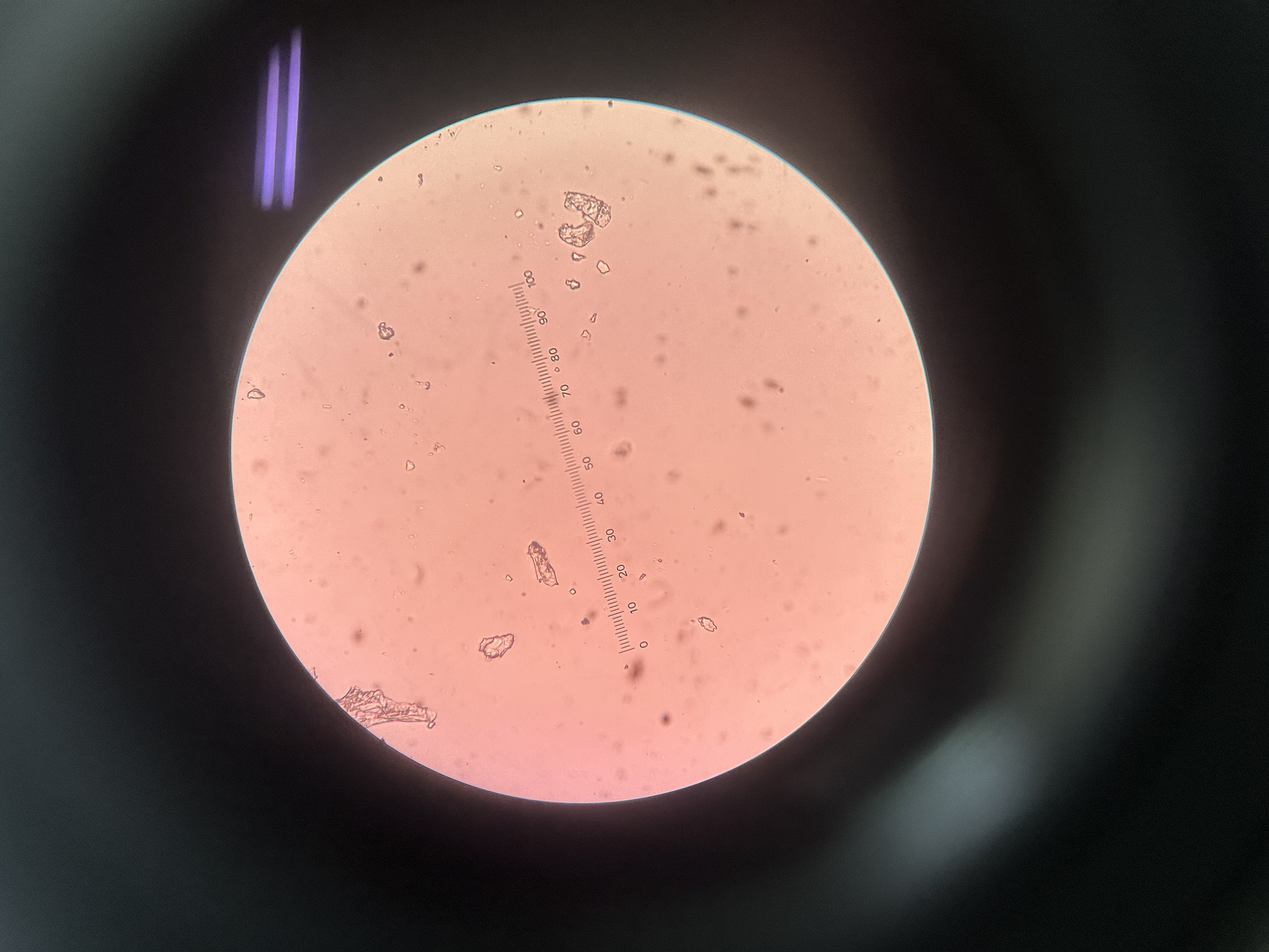microplastic: (332, 683, 443, 735), (559, 189, 616, 228), (523, 542, 565, 588), (480, 632, 518, 661), (557, 221, 598, 247), (373, 321, 399, 341), (694, 616, 720, 634), (563, 275, 586, 291), (596, 259, 611, 272), (249, 387, 265, 398), (570, 250, 586, 258)
